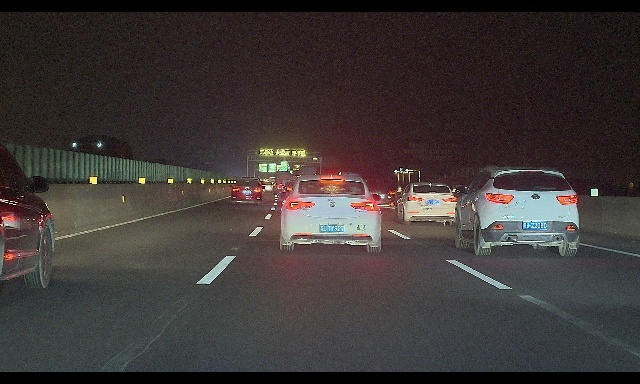car: (454, 165, 580, 257), (276, 174, 382, 253), (0, 144, 55, 288), (396, 182, 457, 226), (361, 179, 396, 212), (229, 178, 266, 206), (285, 181, 313, 202), (250, 180, 265, 194), (282, 182, 297, 195), (263, 182, 273, 192)
truck: (63, 135, 134, 189), (144, 157, 177, 188), (298, 167, 317, 193), (275, 171, 294, 194), (268, 177, 276, 189)
